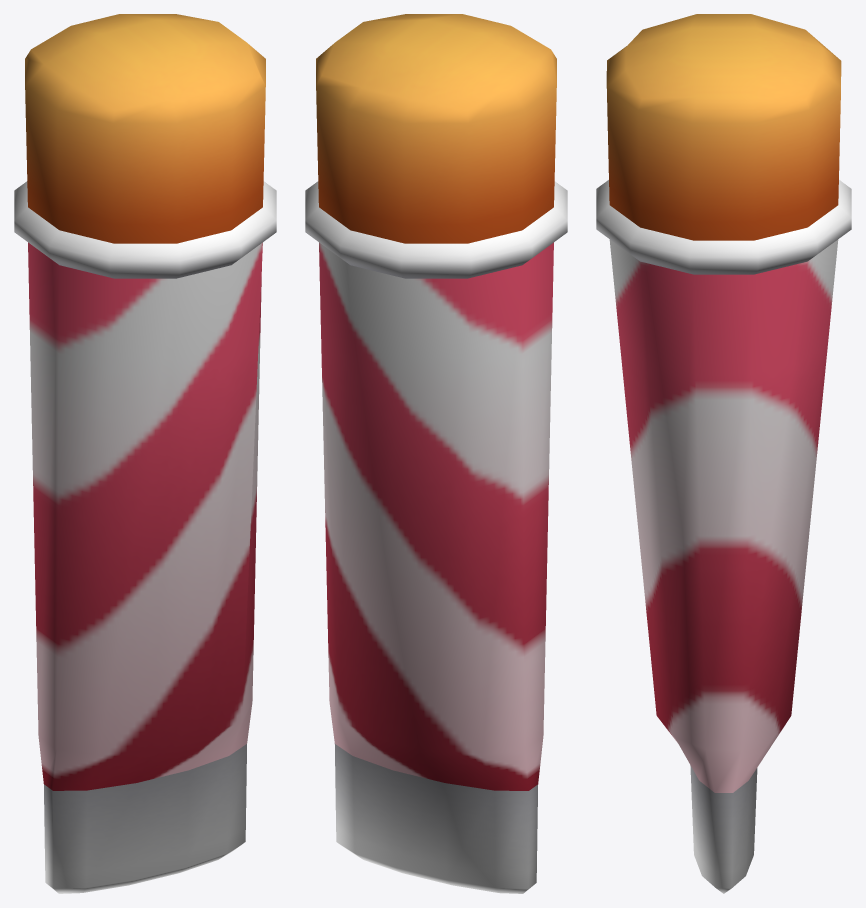
The model's file is m_PushPop09.fbx.
3 views of the same model, side by side, from view 1: azimuth 30°, elevation 25°; view 2: azimuth 150°, elevation 25°; view 3: azimuth 270°, elevation 25° (orthographic). The views are drawn at different scales.
Parts seen in each view (by area): view 1: m_PushPop09; view 2: m_PushPop09; view 3: m_PushPop09.
Part boxes in pixels (x1,y1,x2,y2): m_PushPop09: (14,14,276,893); m_PushPop09: (305,14,567,893); m_PushPop09: (596,14,851,893).
Bounding box in the file's own units: 6.5 × 22.79 × 6.5.
